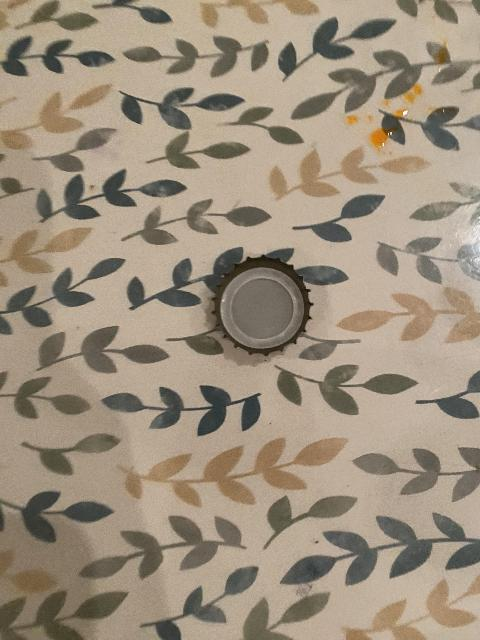Metal: (208, 246, 332, 352)
